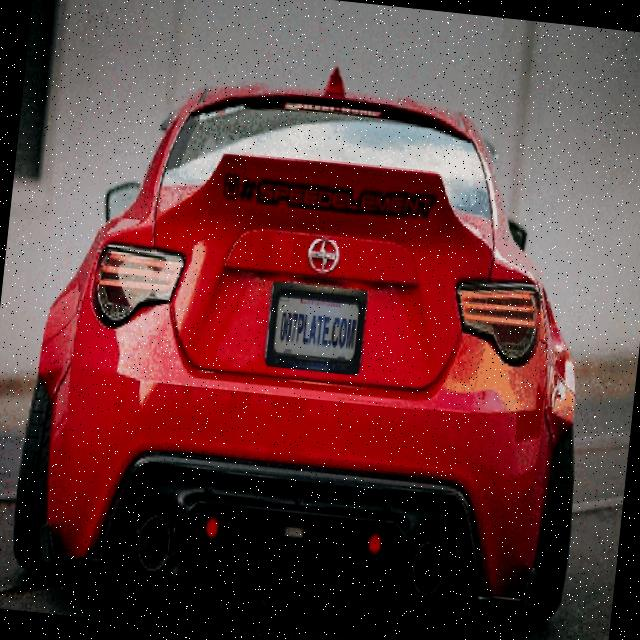Autre: (266, 283, 370, 372)
